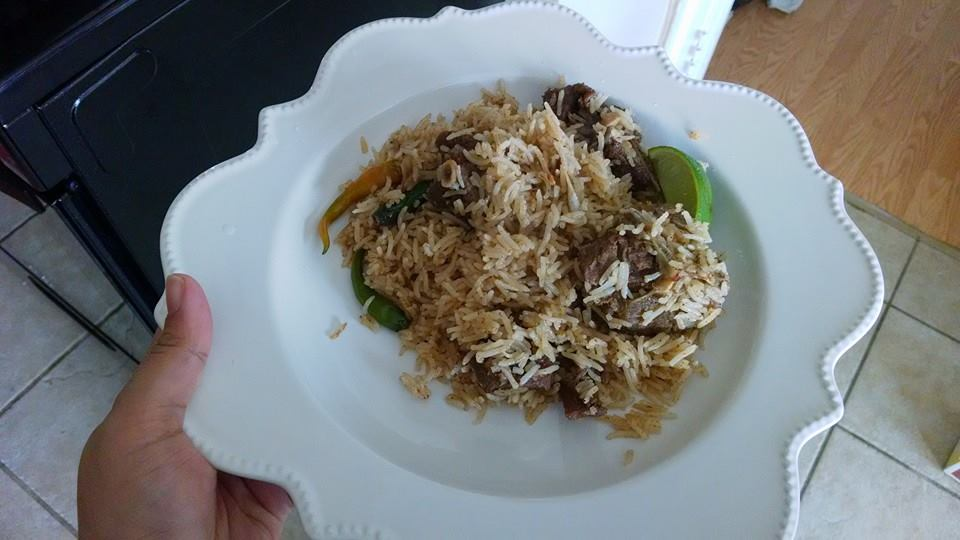tehari: (315, 77, 727, 439)
